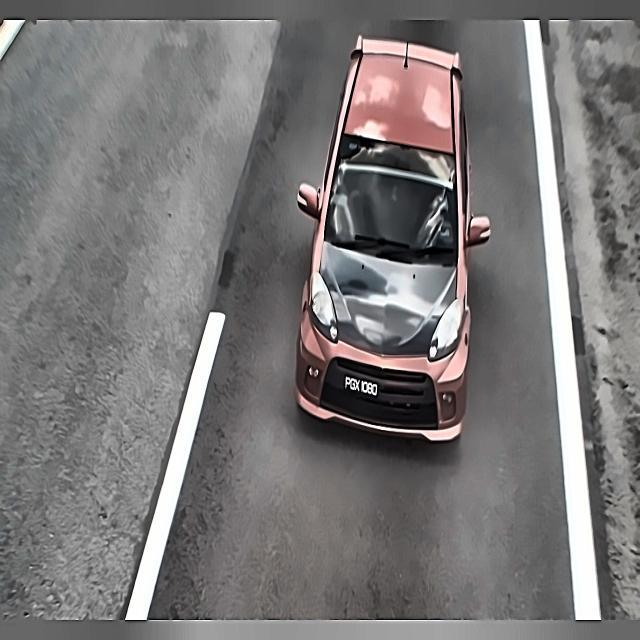car: (342, 364, 384, 406)
